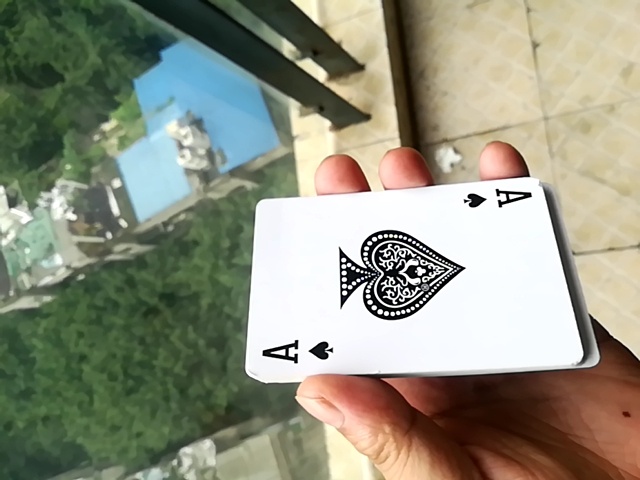ht a: (235, 178, 584, 387)
